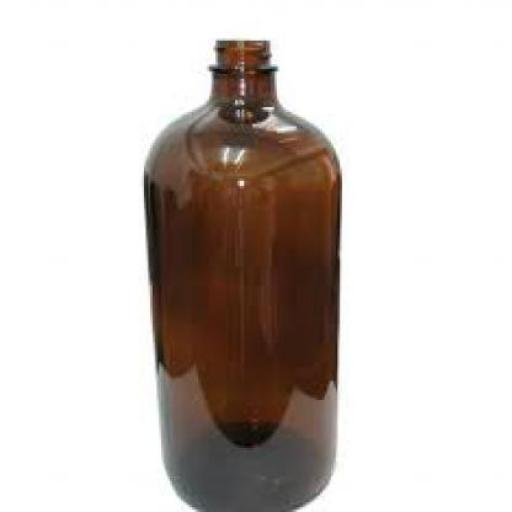glass: (141, 38, 338, 510)
